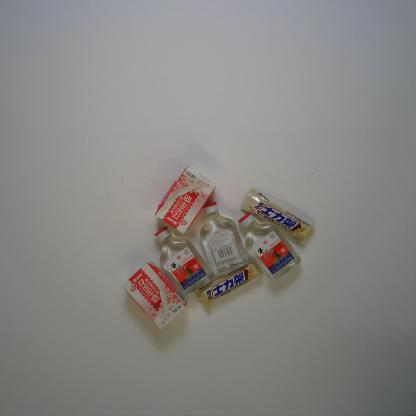Alcohol: (238, 211, 301, 283), (154, 226, 214, 296), (200, 201, 248, 274)
Chocolate: (240, 188, 313, 246), (193, 258, 264, 308)
Milk: (122, 260, 188, 330), (154, 166, 216, 235)
